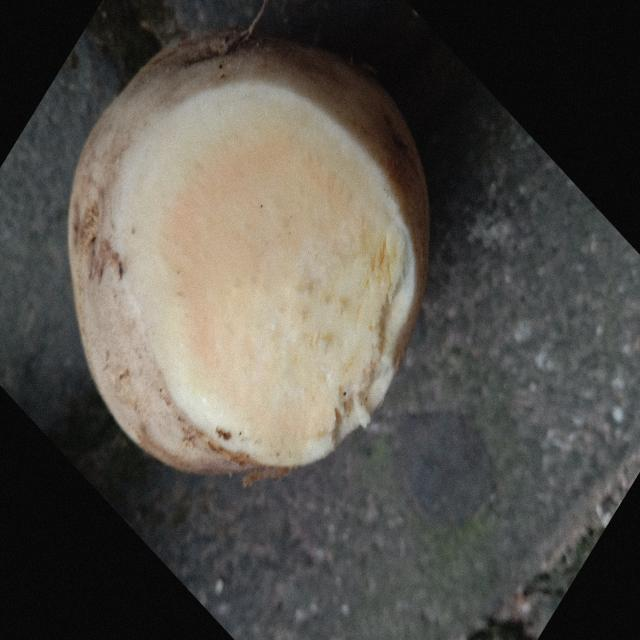Healthy Sweet Potato: (118, 82, 415, 467)
